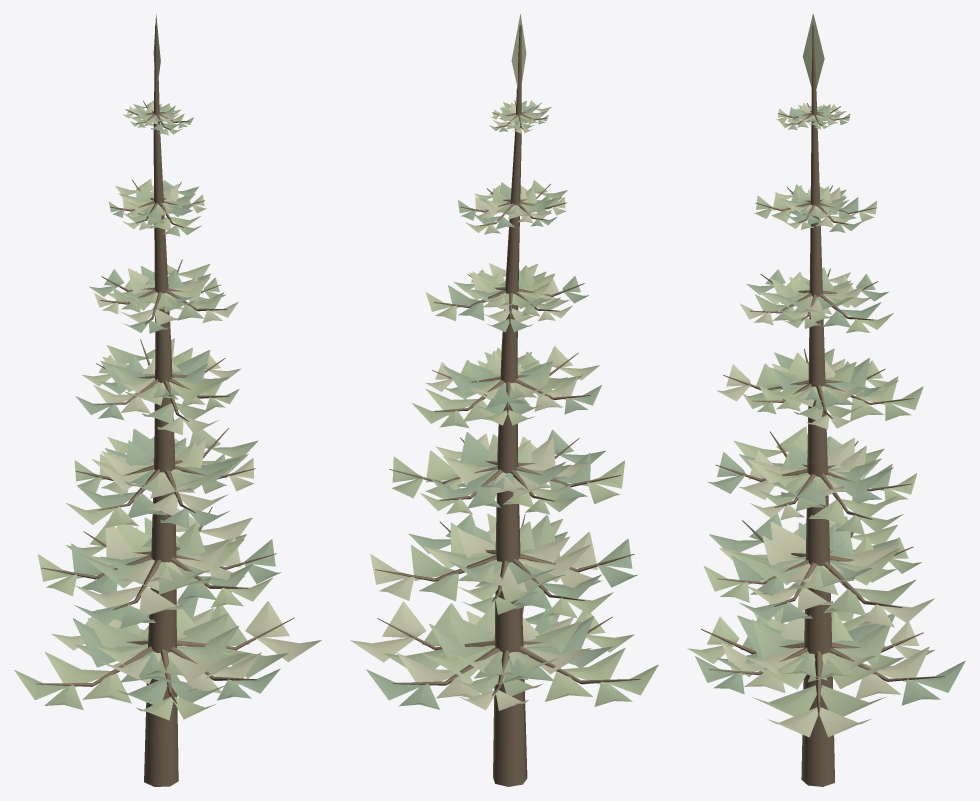
Rendered from silver-fir-mid.glb.
3 views of the same model, side by side, from view 1: azimuth 30°, elevation 25°; view 2: azimuth 150°, elevation 25°; view 3: azimuth 270°, elevation 25° (orthographic).
Visible parts, largest first — view 1: Crown_Foliage, Trunk_Wood; view 2: Crown_Foliage, Trunk_Wood; view 3: Crown_Foliage, Trunk_Wood.
Part boxes in pixels (x1,y1,x2,y2): Crown_Foliage: (14, 14, 321, 720); Trunk_Wood: (36, 25, 294, 786); Crown_Foliage: (350, 14, 658, 710); Trunk_Wood: (375, 25, 640, 786); Crown_Foliage: (687, 14, 965, 737); Trunk_Wood: (701, 25, 944, 786).
Size of the model in its own units: 6.16 by 17.25 by 5.71.
